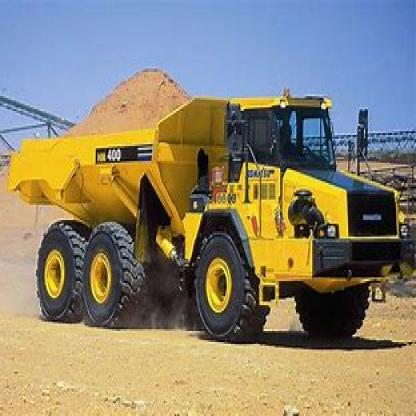dump_truck: (11, 67, 414, 342)
